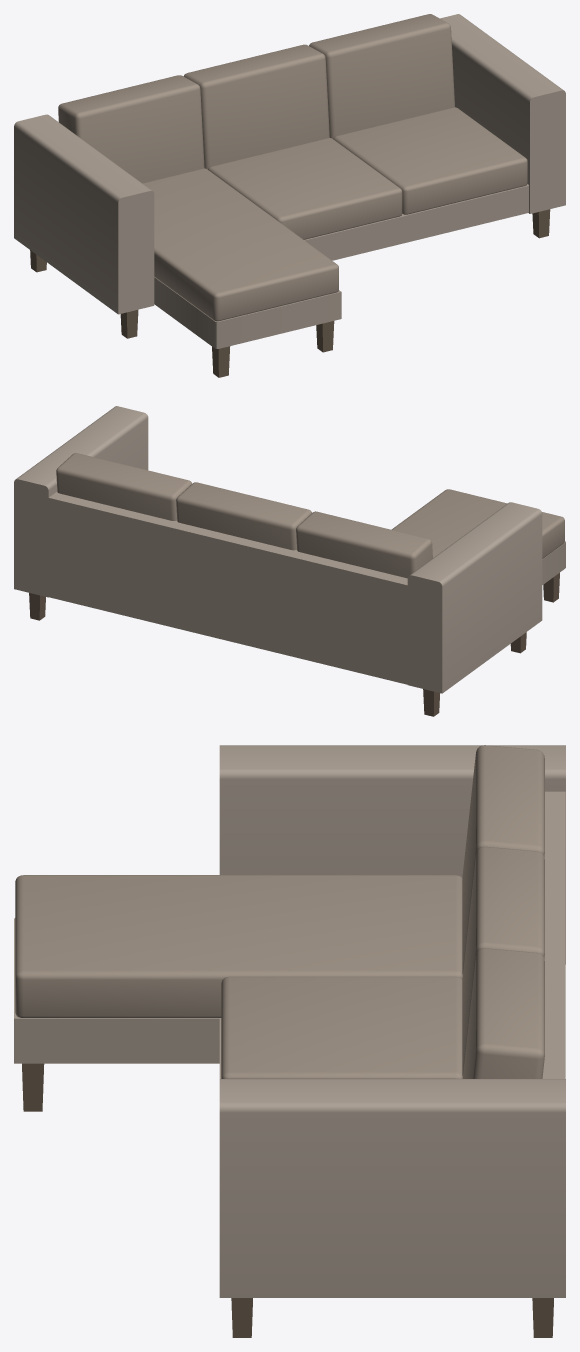
File: Sofa8_C2.fbx
The picture shows the model from 3 angles, top to bottom: view 1: azimuth 30°, elevation 25°; view 2: azimuth 150°, elevation 25°; view 3: azimuth 270°, elevation 25°; orthographic projection. The views are drawn at different scales.
Parts seen in each view (by area): view 1: Sofa8_C2; view 2: Sofa8_C2; view 3: Sofa8_C2.
Boxes of the visible parts, box(x1,y1,x2,y2) form: Sofa8_C2: box(14, 14, 565, 377); Sofa8_C2: box(14, 406, 565, 716); Sofa8_C2: box(14, 745, 565, 1337).
Bounding box in the file's own units: 248 × 86.76 × 159.
